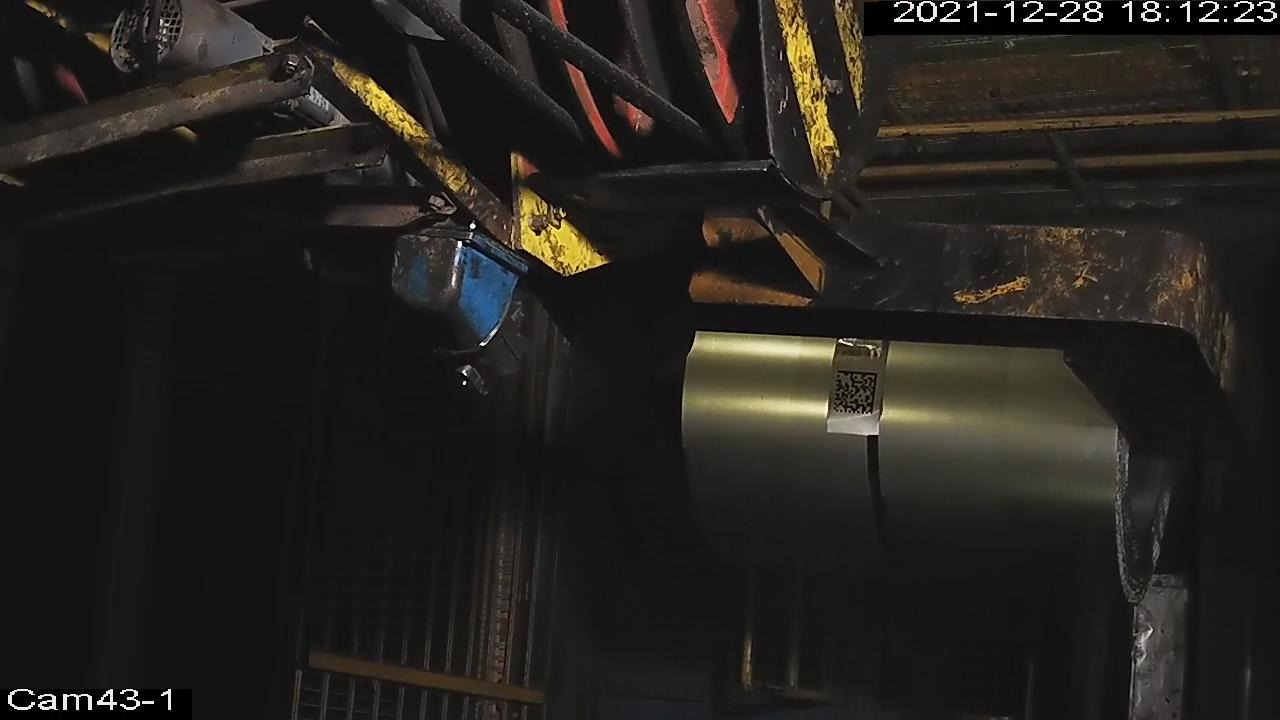data matrix: (831, 369, 880, 418)
